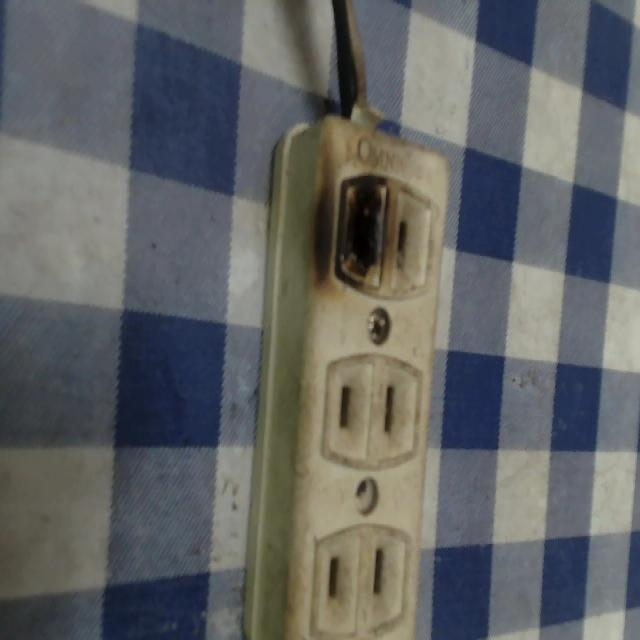-: (315, 157, 399, 304)
